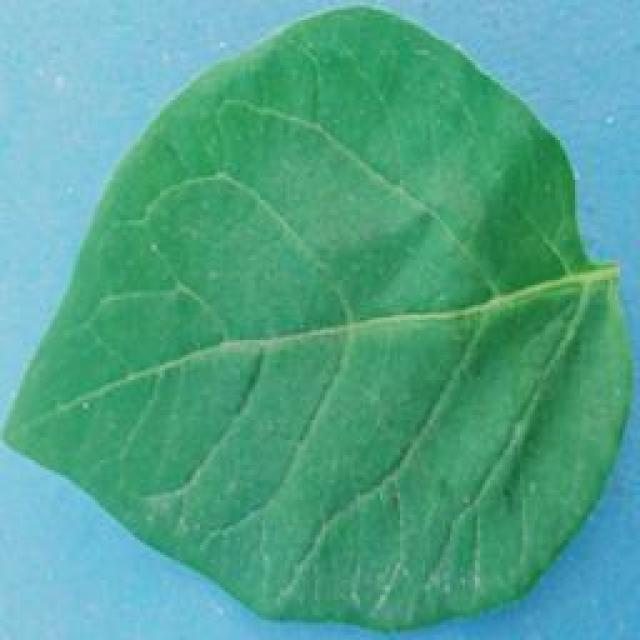Potato_Healthy: (5, 5, 622, 629)
